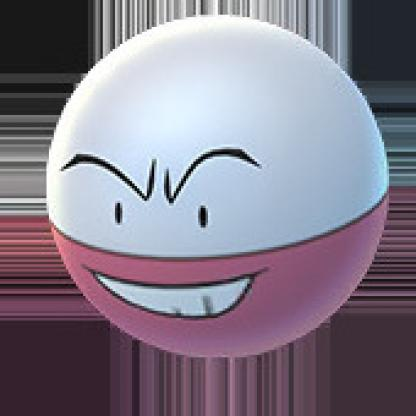Electrode: (52, 11, 394, 357)
